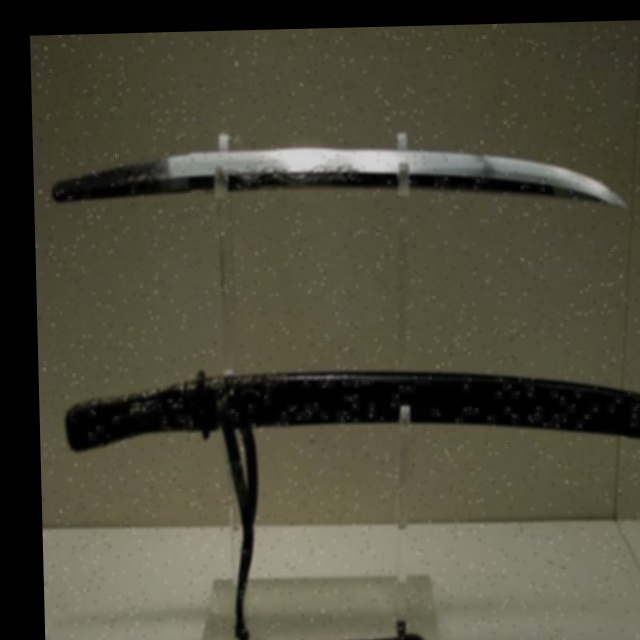Sharp-Object: (40, 131, 640, 241)
